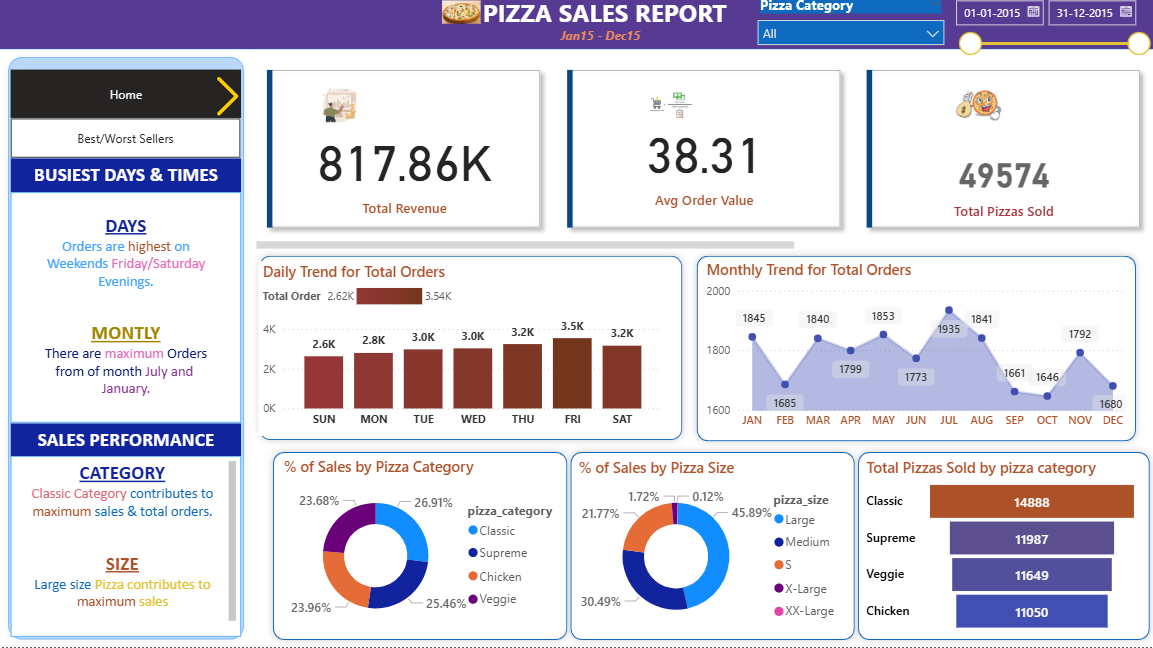

This screenshot's page, from the dashboard's own definition file:
{"tool":"powerbi","page":{"name":"Home","canvas":[1280,720],"ordinal":1},"visuals":[{"type":"shape","box":[0,0,1500.3,64.3],"z":0},{"type":"cardVisual","fields":{"Data":["pizza_sales.Total Revenue","pizza_sales.Avg Order Value","pizza_sales.Total Pizzas Sold","pizza_sales.Total Order","pizza_sales.Avg Pizzas per Order"]},"box":[285.4,70,994.9,220.9],"z":1000},{"type":"shape","box":[9.8,64.8,275.1,655.4],"z":2000},{"type":"image","box":[335.1,6.1,360.7,35.5],"z":3000},{"type":"slicer","fields":{"Values":["pizza_sales.pizza_category"]},"box":[830.3,0,225,59.9],"z":4000},{"type":"slicer","fields":{"Values":["pizza_sales.order_date"]},"box":[1045.6,0,234.6,86.4],"z":5000},{"type":"textbox","box":[533.2,0,295.9,46.5],"z":6000},{"type":"textbox","box":[618.8,34.2,107.6,30.6],"z":7000},{"type":"textbox","box":[20.8,474.5,253.1,36.7],"z":8000},{"type":"textbox","box":[20.8,221.3,253.1,253.1],"z":9000},{"type":"textbox","box":[20.8,511.1,253.1,198.1],"z":10000},{"type":"textbox","box":[20.8,183.4,253.1,36.7],"z":11000},{"type":"pageNavigator","box":[20.6,86.4,253.9,53.5],"z":12000},{"type":"pageNavigator","box":[20.6,140,252.5,43.9],"z":13000},{"type":"shape","box":[285.4,282.7,480.3,218.2],"z":14000},{"type":"columnChart","title":"Daily Trend for Total Orders","fields":{"Category":["pizza_sales.Order Day"],"Y":["pizza_sales.Total Order"]},"box":[292.3,296.4,448.7,192.1],"z":15000},{"type":"shape","box":[765.7,282.7,498.1,219.6],"z":16000},{"type":"areaChart","title":"Monthly Trend for Total Orders","fields":{"Category":["pizza_sales.Order Month"],"Y":["pizza_sales.Total Order"]},"box":[779.4,293.7,470.7,196.2],"z":17000},{"type":"shape","box":[300.5,498.1,338.9,222.3],"z":18000},{"type":"shape","box":[627.1,498.1,328,222.3],"z":19000},{"type":"shape","box":[942.7,498.1,336.2,222.3],"z":20000},{"type":"donutChart","title":"% of Sales by Pizza  Category","fields":{"Category":["pizza_sales.pizza_category"],"Y":["pizza_sales.Total Revenue"]},"box":[315.6,510.5,311.5,197.6],"z":21000},{"type":"donutChart","title":"% of Sales by Pizza Size","fields":{"Y":["pizza_sales.Total Revenue"],"Category":["pizza_sales.pizza_size"]},"box":[639.5,511.8,303.3,196.2],"z":22000},{"type":"funnel","title":"Total Pizzas Sold by pizza category","fields":{"Category":["pizza_sales.pizza_category"],"Y":["pizza_sales.Total Pizzas Sold"]},"box":[955.1,511.8,308.7,196.2],"z":23000},{"type":"image","box":[231.9,5.5,53.5,219.6],"z":24000}]}

Visuals, with their boxes in screenshot pixels (x1, y1, x2, y2), scaled from the page's 1280x720 canvas onto the 1153x648 screenshot:
shape: 0,0,1152,58
cardVisual - pizza_sales.Total Revenue x pizza_sales.Avg Order Value: 257,63,1152,262
shape: 9,58,257,647
image: 302,5,627,37
slicer - pizza_sales.pizza_category: 748,0,951,54
slicer - pizza_sales.order_date: 942,0,1152,78
textbox: 480,0,747,42
textbox: 557,31,654,58
textbox: 19,427,247,460
textbox: 19,199,247,427
textbox: 19,460,247,638
textbox: 19,165,247,198
pageNavigator: 19,78,247,126
pageNavigator: 19,126,246,166
shape: 257,254,690,451
"Daily Trend for Total Orders" columnChart: 263,267,667,440
shape: 690,254,1138,452
"Monthly Trend for Total Orders" areaChart: 702,264,1126,441
shape: 271,448,576,647
shape: 565,448,860,647
shape: 849,448,1152,647
"% of Sales by Pizza  Category" donutChart: 284,459,565,637
"% of Sales by Pizza Size" donutChart: 576,461,849,637
"Total Pizzas Sold by pizza category" funnel: 860,461,1138,637
image: 209,5,257,203
